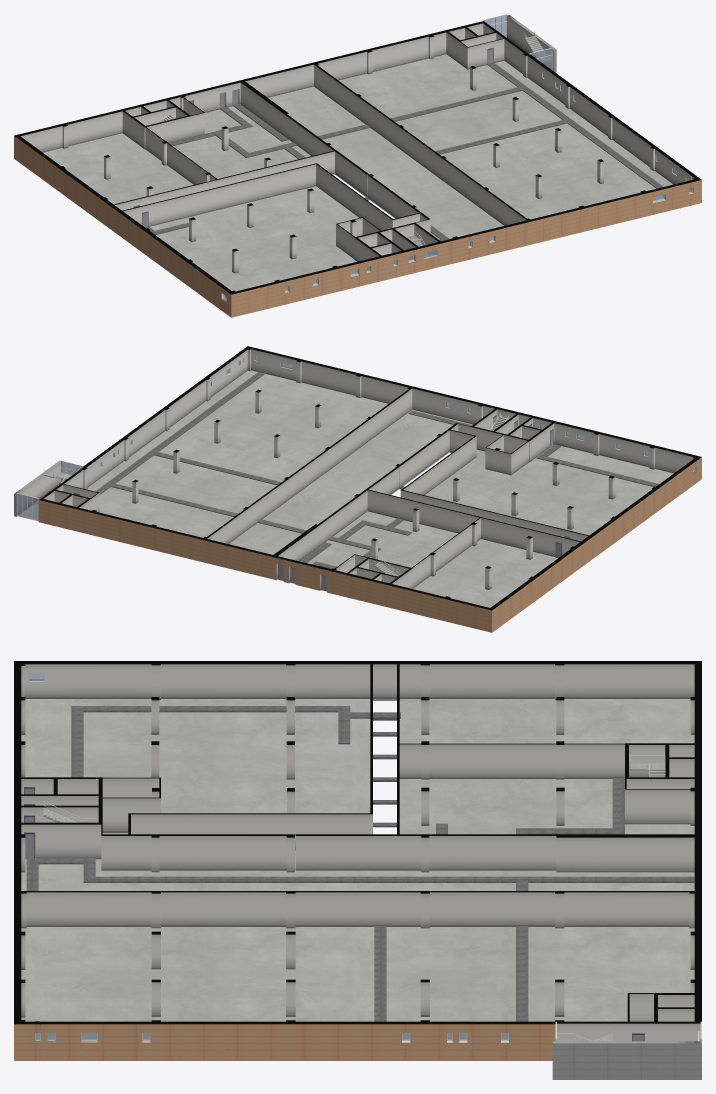
3 renders of one model, top to bottom at view 1: azimuth 30°, elevation 25°; view 2: azimuth 150°, elevation 25°; view 3: azimuth 270°, elevation 25°, orthographic. The views are drawn at different scales.
Parts seen in each view (by area): view 1: Polyline003, Line1562, Line1642, Rectangle2403; view 2: Polyline003, Line1562, Line1642, Rectangle2403; view 3: Polyline003, Line1562, Line1642, Rectangle2403, Box2020.
Part boxes in pixels (x1,y1,x2,y2): Polyline003: (14,15,701,317); Line1562: (43,54,673,291); Line1642: (145,62,663,297); Rectangle2403: (224,14,692,299); Polyline003: (14,346,701,632); Line1562: (87,370,673,607); Line1642: (95,372,659,569); Rectangle2403: (16,355,694,521); Polyline003: (14,661,701,1079); Line1562: (21,699,694,1038); Line1642: (26,706,694,1021); Rectangle2403: (28,672,701,1041); Box2020: (295,718,396,868).
Size of the model in its own units: 67.31 by 3.6 by 51.18.
Materials: 9 (6 with a texture image).
